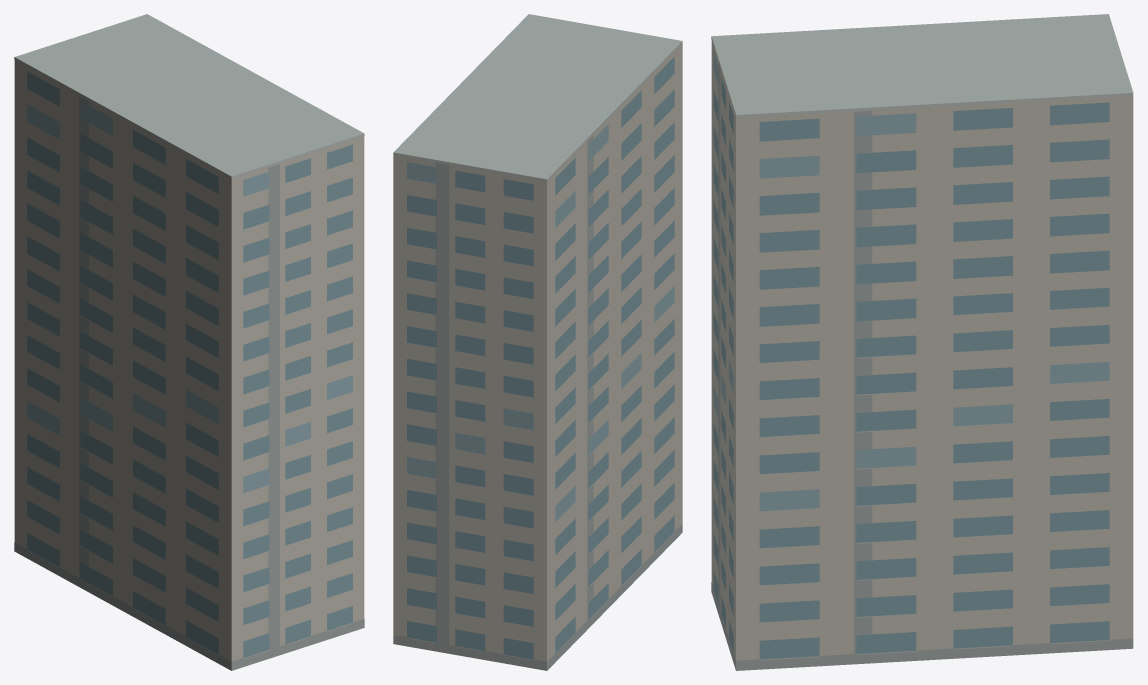
The model's file is residential-e20c8777-bb1d-4edd-8e41-e71cf9d982be.glb.
The picture shows the model from 3 angles, left to right: view 1: azimuth 30°, elevation 25°; view 2: azimuth 150°, elevation 25°; view 3: azimuth 270°, elevation 25°; orthographic projection. The views are drawn at different scales.
Visible parts, largest first — view 1: residential-e20c8777-bb1d-4edd-8e41-e71cf9d982be.tmp; view 2: residential-e20c8777-bb1d-4edd-8e41-e71cf9d982be.tmp; view 3: residential-e20c8777-bb1d-4edd-8e41-e71cf9d982be.tmp.
Boxes of the visible parts, <box> form: residential-e20c8777-bb1d-4edd-8e41-e71cf9d982be.tmp: <box>14,14,364,670</box>; residential-e20c8777-bb1d-4edd-8e41-e71cf9d982be.tmp: <box>393,14,682,670</box>; residential-e20c8777-bb1d-4edd-8e41-e71cf9d982be.tmp: <box>711,14,1133,670</box>.
Bounding box in the file's own units: 15.61 × 40 × 27.53.
